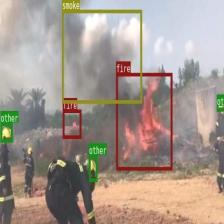fire: (116, 72, 172, 169), (63, 109, 81, 138)
smoke: (61, 9, 142, 103)
